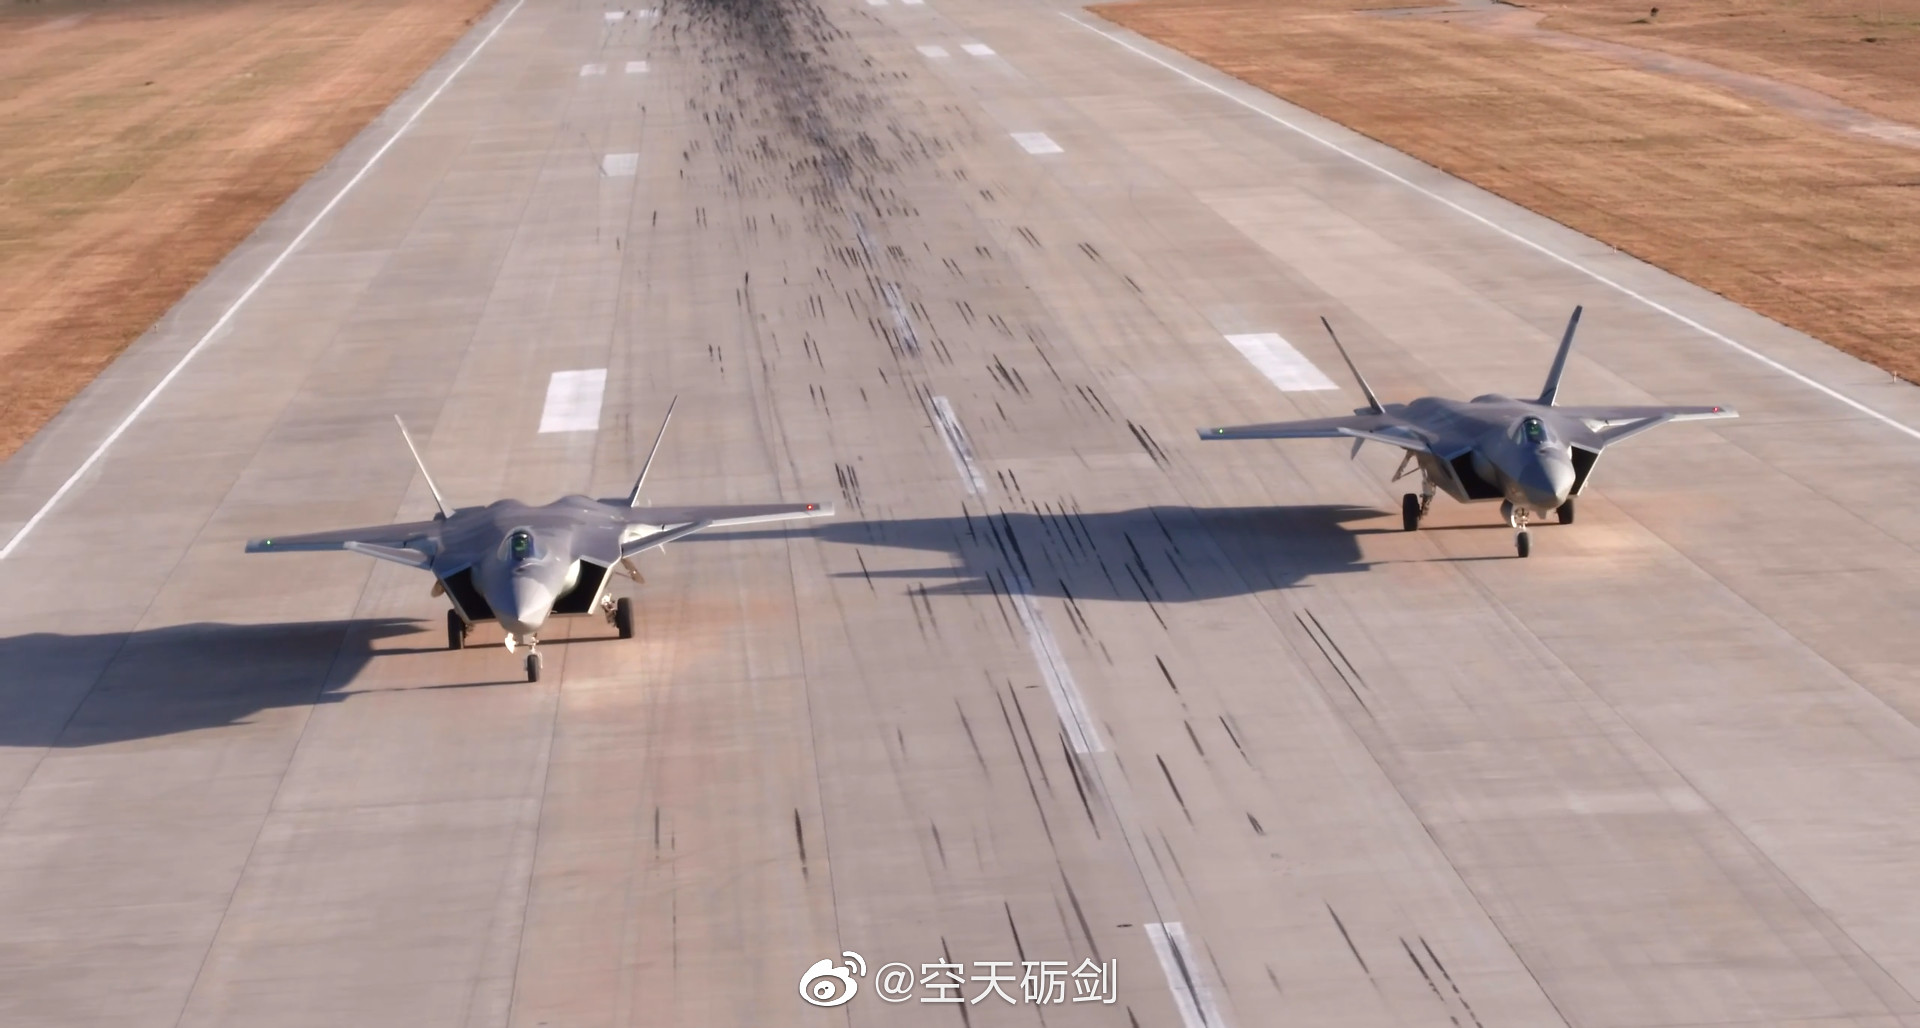J20: (244, 393, 836, 682), (1192, 305, 1738, 558)
